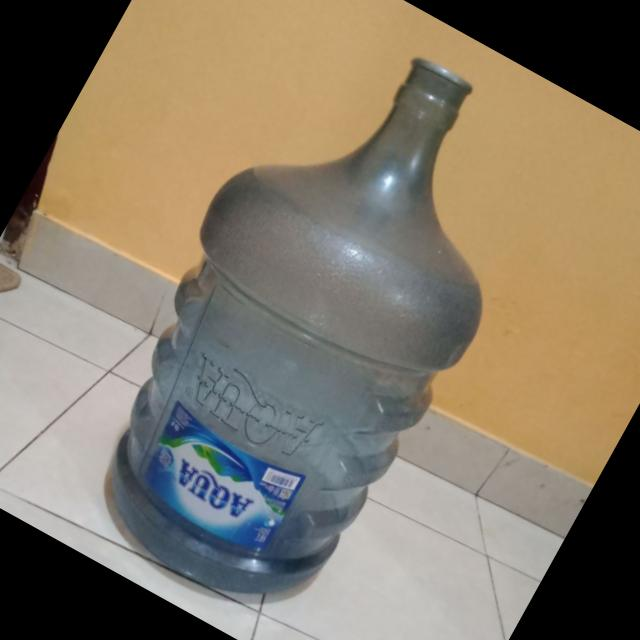Galon: (43, 0, 583, 640)
